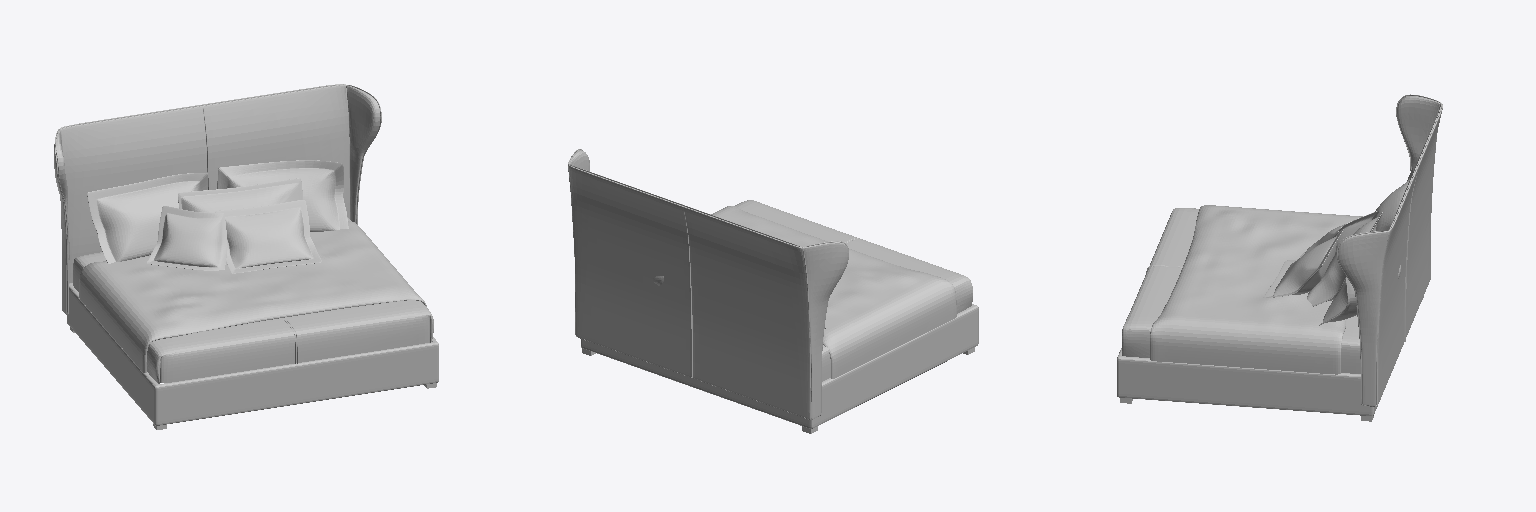
Rendered from bed.obj.
3 renders of one model, left to right at view 1: azimuth 30°, elevation 25°; view 2: azimuth 150°, elevation 25°; view 3: azimuth 270°, elevation 25°, orthographic.
Visible parts, largest first — view 1: georgetti_51960_10, georgetti_51960_13, georgetti_51960_12, georgetti_51960_11, georgetti_51960_09, georgetti_51960_02, georgetti_51960_07, georgetti_51960_03, georgetti_51960_01; view 2: georgetti_51960_10, georgetti_51960_13, georgetti_51960_12, georgetti_51960_11; view 3: georgetti_51960_13, georgetti_51960_10, georgetti_51960_12, georgetti_51960_11, georgetti_51960_02, georgetti_51960_01, georgetti_51960_07, georgetti_51960_09, georgetti_51960_03.
Boxes of the visible parts, <box> form: georgetti_51960_10: <box>54,84,381,315</box>; georgetti_51960_13: <box>79,221,426,372</box>; georgetti_51960_12: <box>67,283,438,425</box>; georgetti_51960_11: <box>73,217,433,383</box>; georgetti_51960_09: <box>87,173,207,263</box>; georgetti_51960_02: <box>215,200,321,273</box>; georgetti_51960_07: <box>217,160,348,231</box>; georgetti_51960_03: <box>147,206,226,270</box>; georgetti_51960_01: <box>178,178,302,212</box>; georgetti_51960_10: <box>568,149,848,419</box>; georgetti_51960_13: <box>711,206,956,378</box>; georgetti_51960_12: <box>581,304,978,428</box>; georgetti_51960_11: <box>735,200,972,381</box>; georgetti_51960_13: <box>1150,205,1362,374</box>; georgetti_51960_10: <box>1336,94,1442,406</box>; georgetti_51960_12: <box>1117,348,1377,415</box>; georgetti_51960_11: <box>1122,208,1360,373</box>; georgetti_51960_02: <box>1263,229,1343,297</box>; georgetti_51960_01: <box>1307,212,1382,306</box>; georgetti_51960_07: <box>1319,265,1400,325</box>; georgetti_51960_09: <box>1375,168,1412,230</box>; georgetti_51960_03: <box>1300,211,1378,257</box>.
Bounding box in the file's own units: 155 × 92.91 × 141.